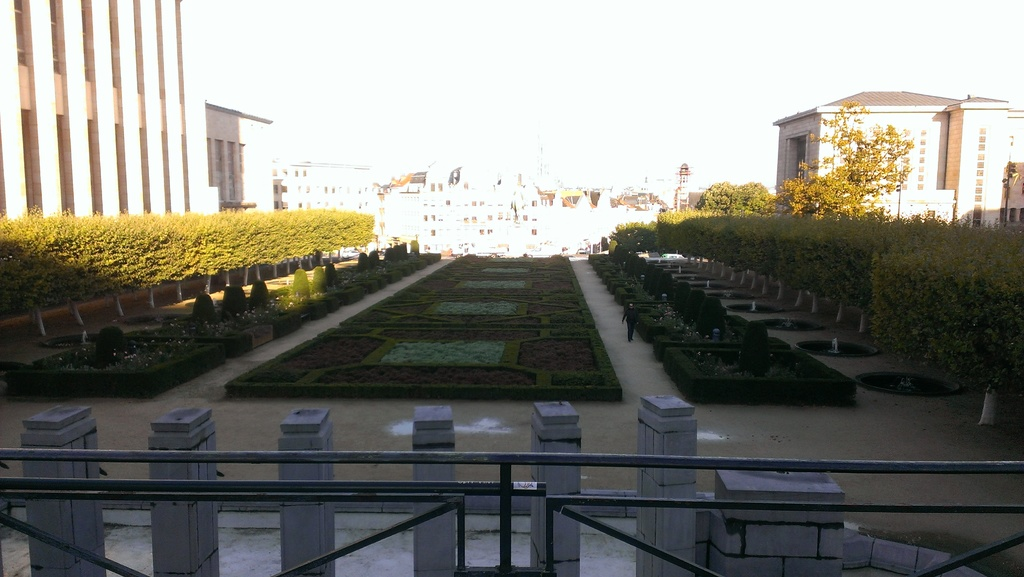Tree: (794, 80, 983, 225), (728, 177, 780, 214), (692, 180, 734, 209)
